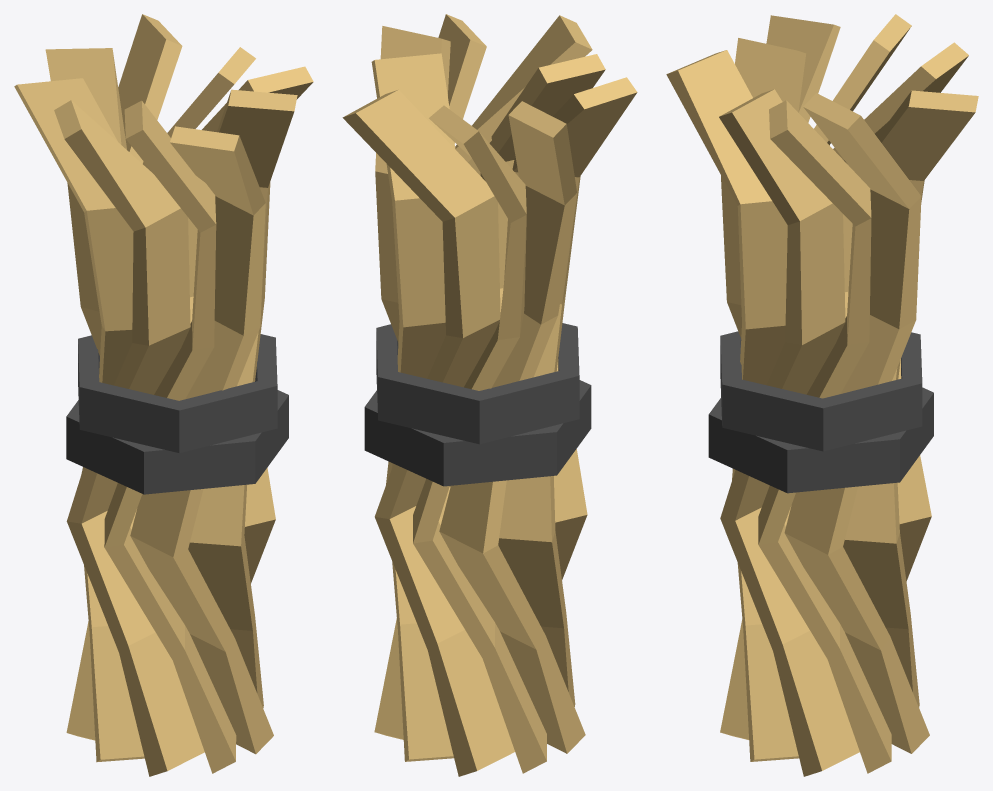
The model's file is hay item.fbx.
3 renders of one model, left to right at view 1: azimuth 30°, elevation 25°; view 2: azimuth 150°, elevation 25°; view 3: azimuth 270°, elevation 25°, orthographic.
Parts seen in each view (by area): view 1: Circle.001; view 2: Circle.001; view 3: Circle.001.
Part boxes in pixels (box(x1,y1,x2,y2)): Circle.001: box(14, 14, 313, 776); Circle.001: box(342, 14, 637, 776); Circle.001: box(666, 14, 978, 776).
Bounding box in the file's own units: 74.49 × 191 × 81.07.
